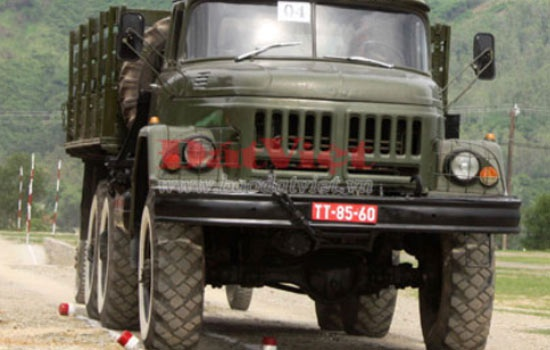plate: (307, 196, 382, 228)
